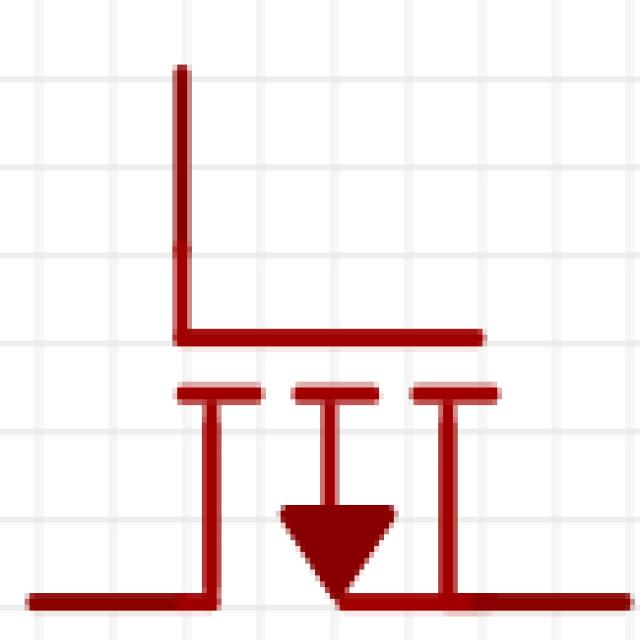pmos: (27, 85, 640, 640)
